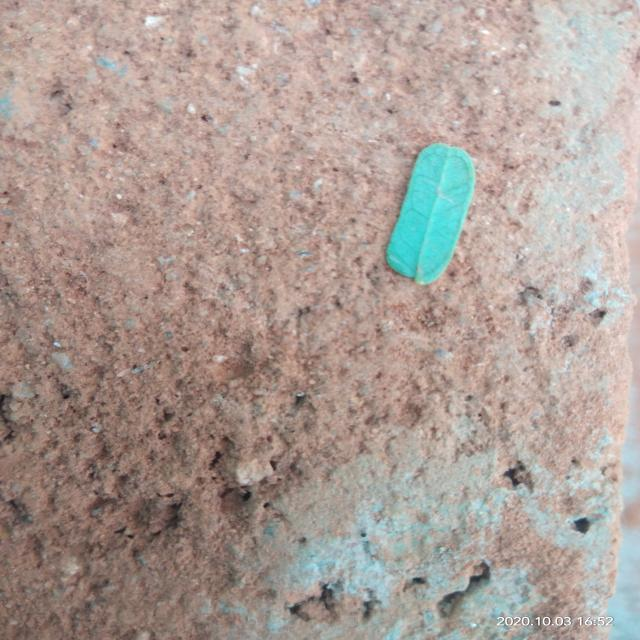tamarind: (387, 144, 475, 285)
